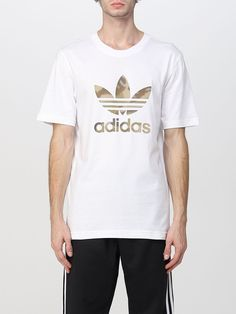adidas Originale: (89, 73, 158, 140)
